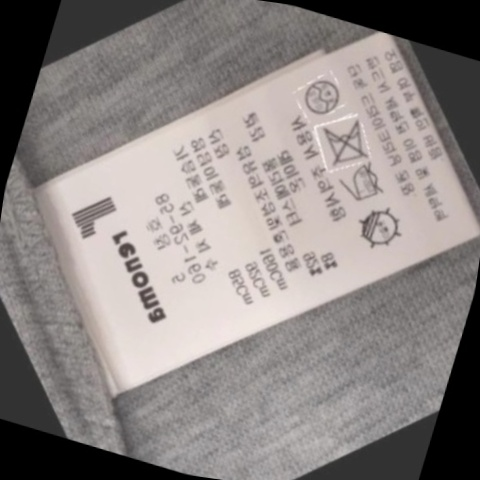DN_wash: (307, 109, 378, 175)
dry_clean_petrol_only: (292, 67, 350, 124)
iron_low: (331, 155, 395, 215)
line_dry_in_shade: (342, 197, 411, 259)
